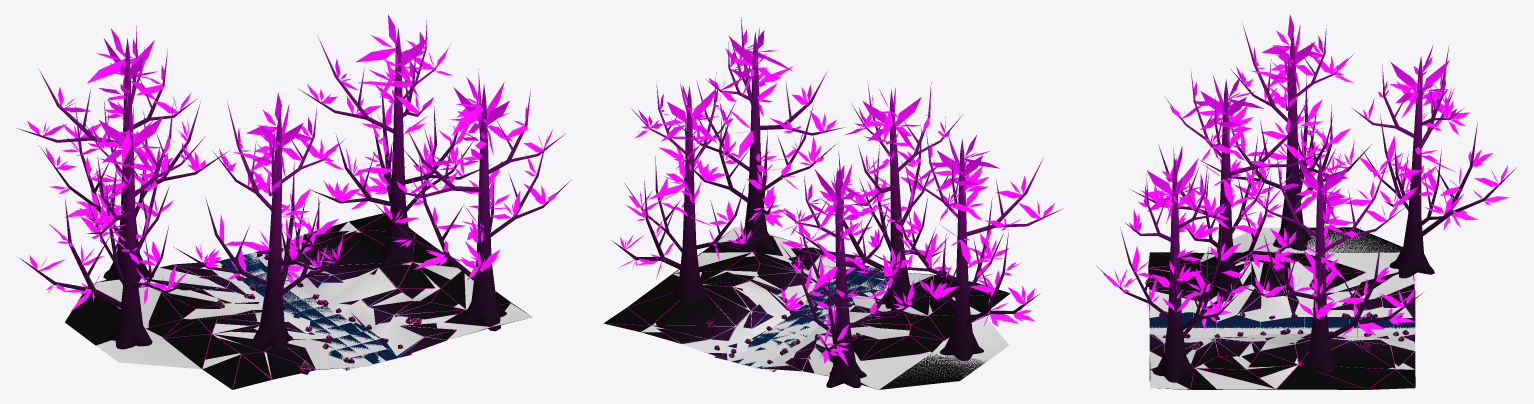
Rendered from Terrain_Forest_1.fbx.
The picture shows the model from 3 angles, left to right: view 1: azimuth 30°, elevation 25°; view 2: azimuth 150°, elevation 25°; view 3: azimuth 270°, elevation 25°; orthographic projection. The views are drawn at different scales.
Visible parts, largest first — view 1: Terrain_Forest_1, Terrain_Forest_1_Colider; view 2: Terrain_Forest_1, Terrain_Forest_1_Colider; view 3: Terrain_Forest_1, Terrain_Forest_1_Colider.
Boxes of the visible parts, <box> form: Terrain_Forest_1: <box>17,14,571,389</box>; Terrain_Forest_1_Colider: <box>93,221,532,377</box>; Terrain_Forest_1: <box>603,17,1063,389</box>; Terrain_Forest_1_Colider: <box>641,227,1009,389</box>; Terrain_Forest_1: <box>1096,14,1516,389</box>; Terrain_Forest_1_Colider: <box>1149,227,1415,389</box>.
Size of the model in its own units: 8875 by 4440 by 7355.
